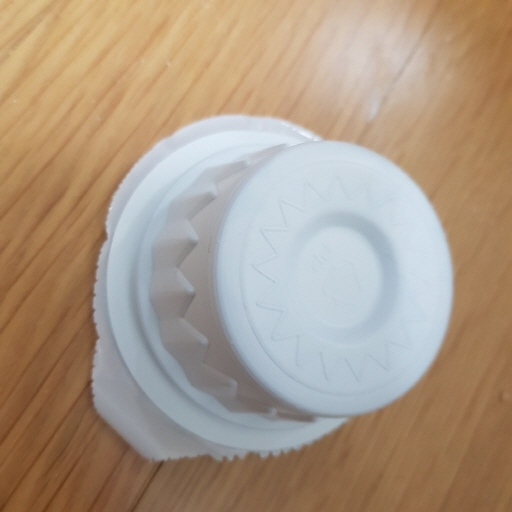Plastic_5: (81, 112, 454, 466)
